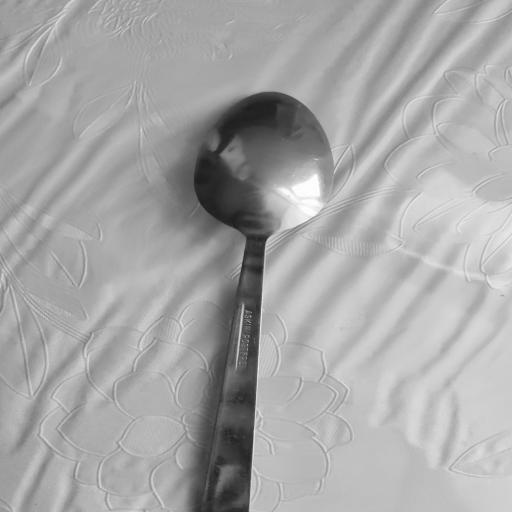spoon: (192, 92, 338, 512)
